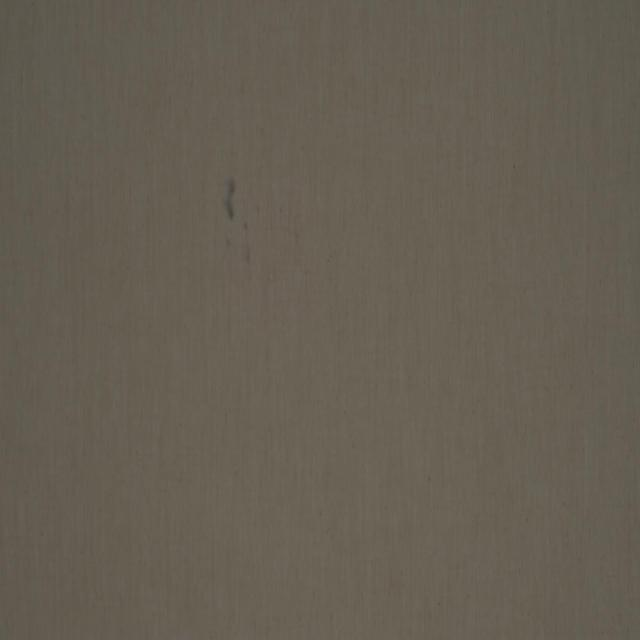dirty: (222, 176, 238, 220)
